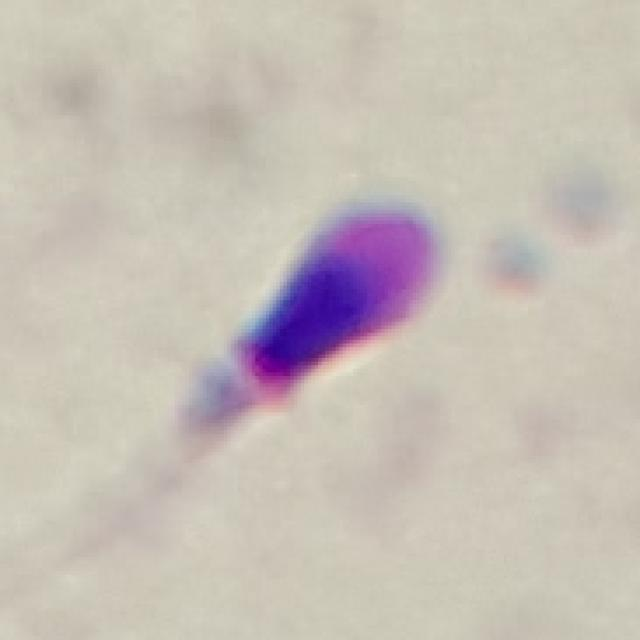abnormal sperm: (111, 187, 450, 525)
